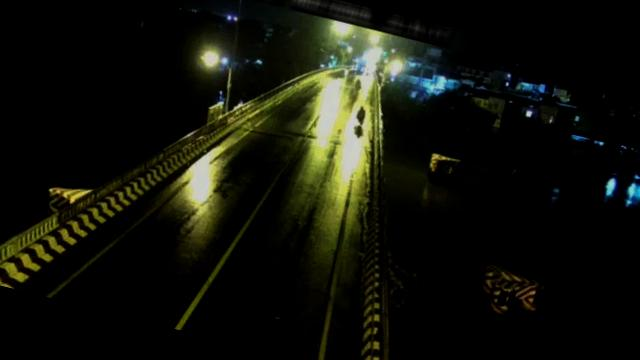Bike: (350, 104, 370, 128), (353, 78, 364, 91)
